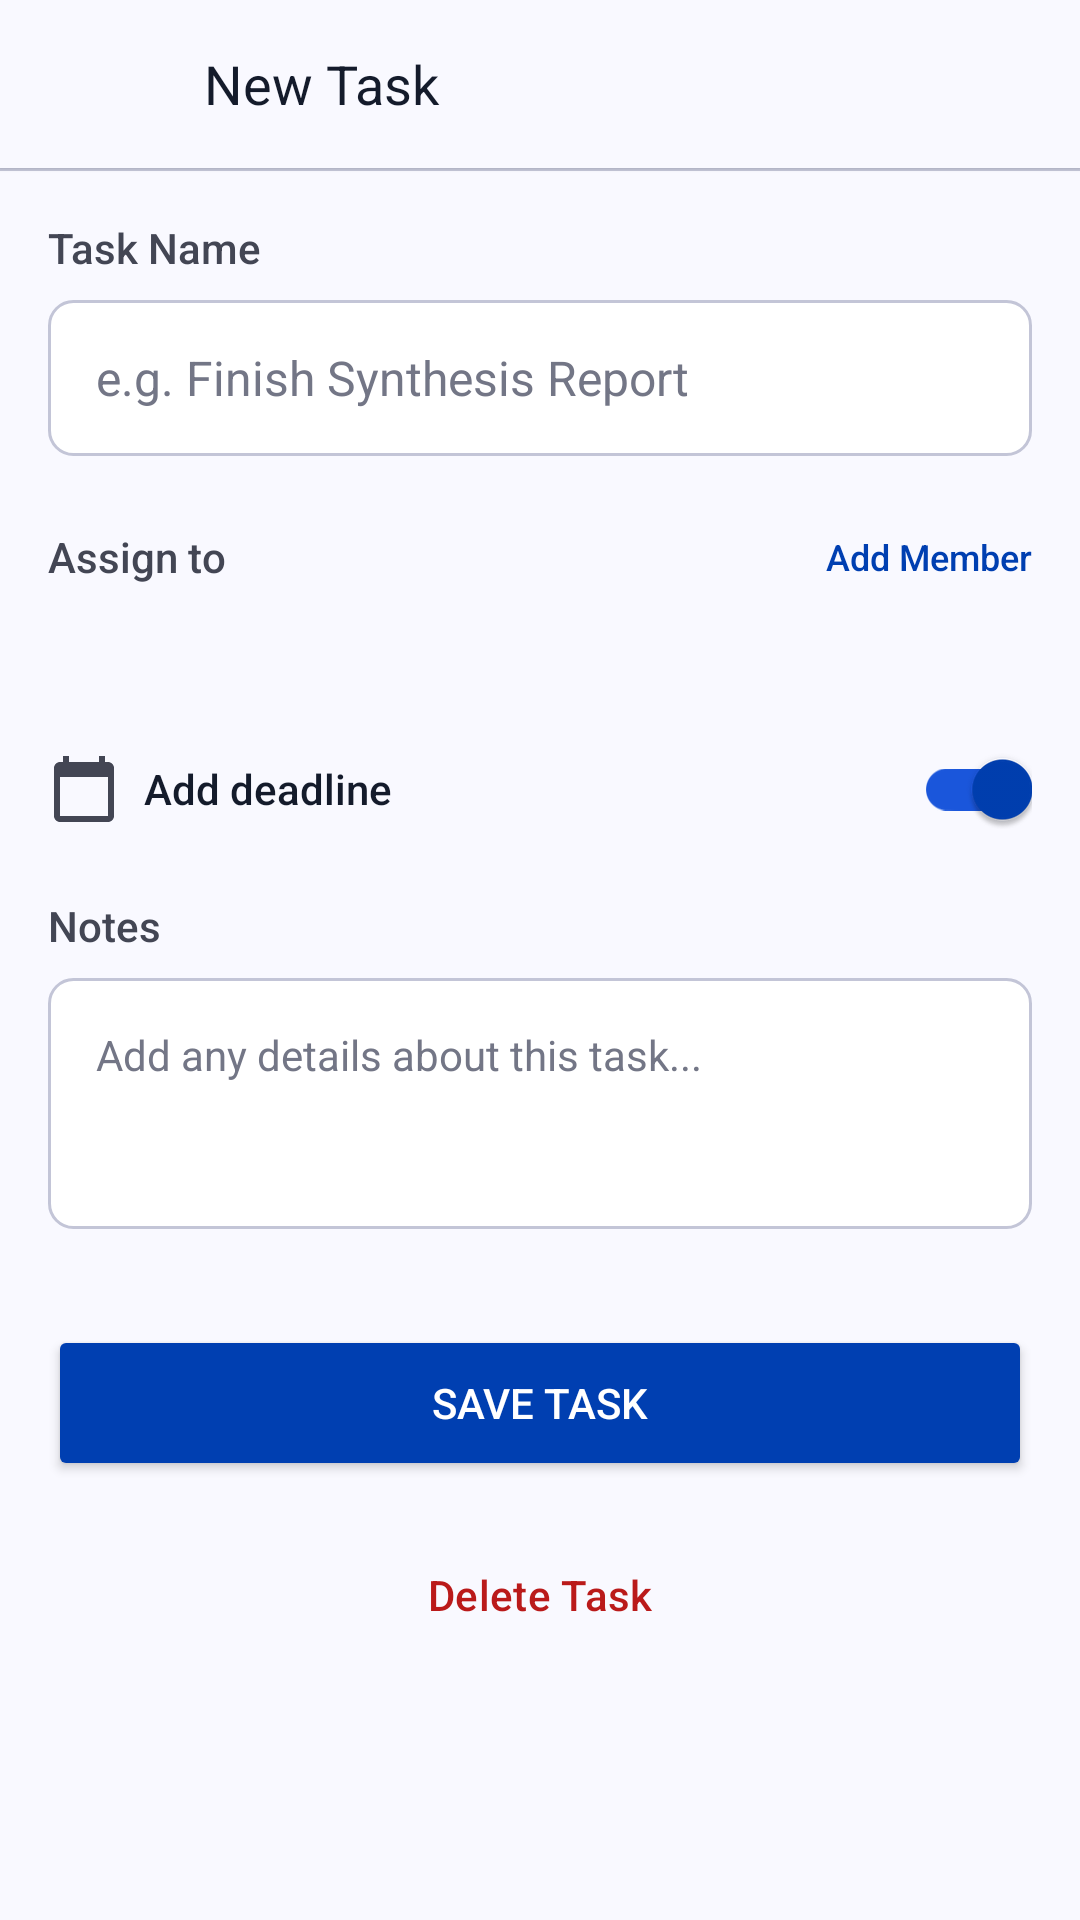

Locate icon controls on the screen. Image size 1080px x 1920px, boxes as (x1, y1, x2, y2).
calendar: (54, 756, 114, 822)
